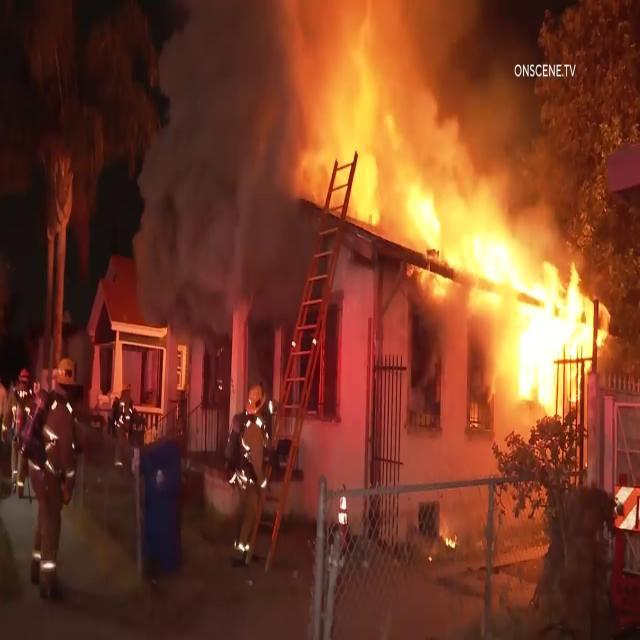Fire: (432, 208, 591, 386)
Smoke: (144, 54, 332, 302)
